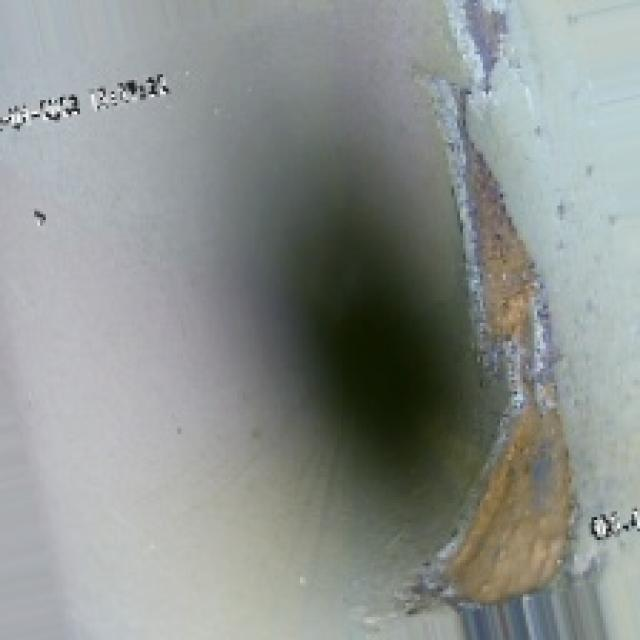pipe_surface_damage: (400, 69, 597, 606)
